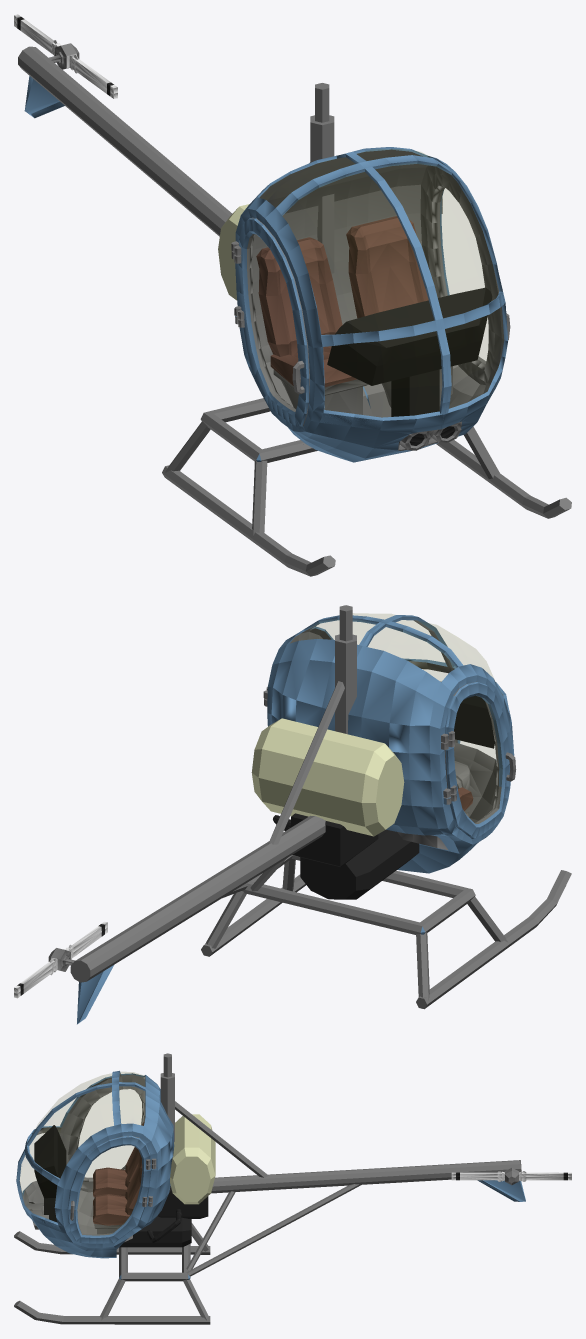
The model's file is aircraft 13.glb.
3 renders of one model, top to bottom at view 1: azimuth 30°, elevation 25°; view 2: azimuth 150°, elevation 25°; view 3: azimuth 270°, elevation 25°, orthographic. The views are drawn at different scales.
Visible parts, largest first — view 1: fuselage, seats, instrument panel, landing struts, tail boom, door right, door left, rotor mast, tail rotor, Engine, stabilizer; view 2: fuselage, Engine, landing struts, tail boom, door right, glass.001, rotor mast, struts 3, instrument panel, tail rotor, stabilizer, seats; view 3: fuselage, Engine, landing struts, tail boom, seats, door left, instrument panel, struts 1, glass.001, tail rotor, door right, struts 3 (+3 smaller).
Boxes of the visible parts, x1,y1,x2,y2 form: fuselage: (231, 147, 507, 462); seats: (256, 216, 452, 414); instrument panel: (327, 287, 492, 416); landing struts: (162, 398, 571, 576); tail boom: (18, 46, 232, 236); door right: (234, 217, 309, 428); door left: (426, 173, 510, 382); rotor mast: (310, 83, 334, 273); tail rotor: (14, 14, 117, 98); Engine: (218, 204, 249, 300); stabilizer: (24, 76, 64, 118); fuselage: (263, 615, 514, 873); Engine: (251, 718, 419, 899); landing struts: (201, 855, 571, 1009); tail boom: (70, 815, 325, 982); door right: (444, 681, 516, 838); glass.001: (312, 613, 492, 680); rotor mast: (335, 605, 356, 734); struts 3: (269, 681, 344, 844); instrument panel: (440, 681, 494, 748); tail rotor: (14, 921, 107, 998); stabilizer: (77, 965, 113, 1024); seats: (397, 787, 473, 850); fuselage: (16, 1070, 174, 1258); Engine: (119, 1114, 215, 1247); landing struts: (14, 1223, 210, 1324); tail boom: (211, 1160, 521, 1193); seats: (93, 1121, 144, 1241); door left: (67, 1136, 150, 1243); instrument panel: (34, 1125, 66, 1222); struts 1: (186, 1184, 360, 1276); glass.001: (20, 1072, 143, 1193); tail rotor: (451, 1168, 571, 1185); door right: (68, 1086, 145, 1188); struts 3: (175, 1101, 267, 1177).
Bounding box in the file's own units: 1.97 × 2.91 × 6.3.
